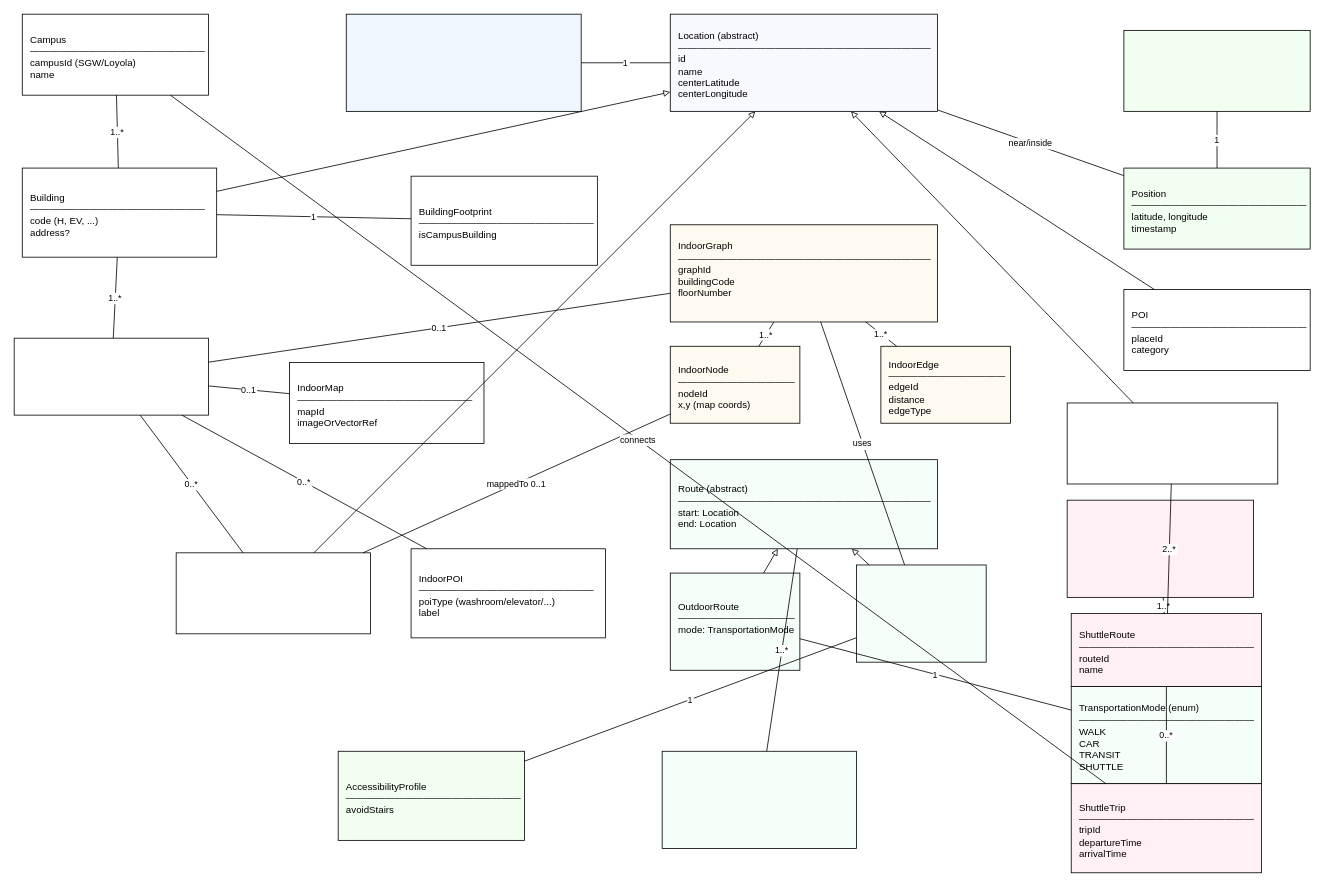
Image size: 1324x887. Some labels were removed from this diagram. The shapes that lost their labels are listed below. From the top down, each one's centre as x and y in pixels, then its label:
pixel 463 62: ClassEvent ——————————————————————— startTime,endTime title location: Location
pixel 1216 70: User —————————————————— userId preferences
pixel 111 376: Floor —————————————————— floorNumber label
pixel 1172 443: ShuttleStop —————————————————— stopId label
pixel 1159 548: ShuttleService —————————————————— serviceId timeAwareRules
pixel 273 593: Room —————————————————— roomCode type
pixel 921 613: IndoorRoute ———————————— profile: AccessibilityProfile
pixel 759 799: RouteStep —————————————————— instruction distance duration
